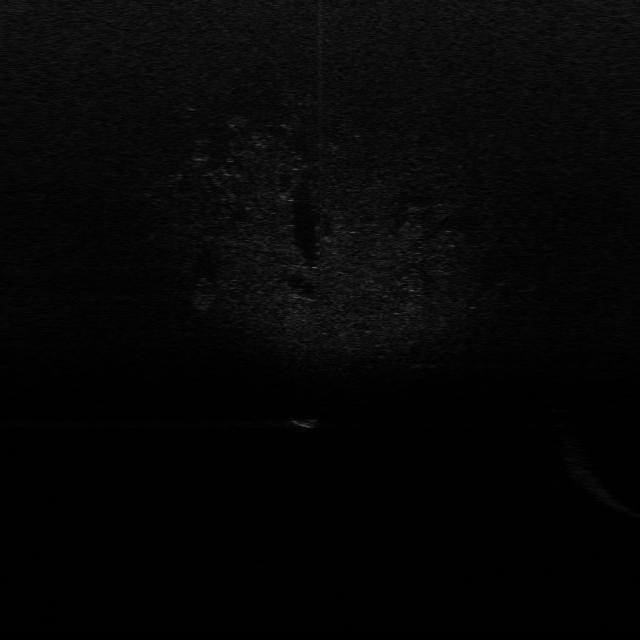square cage: (286, 416, 320, 430)
